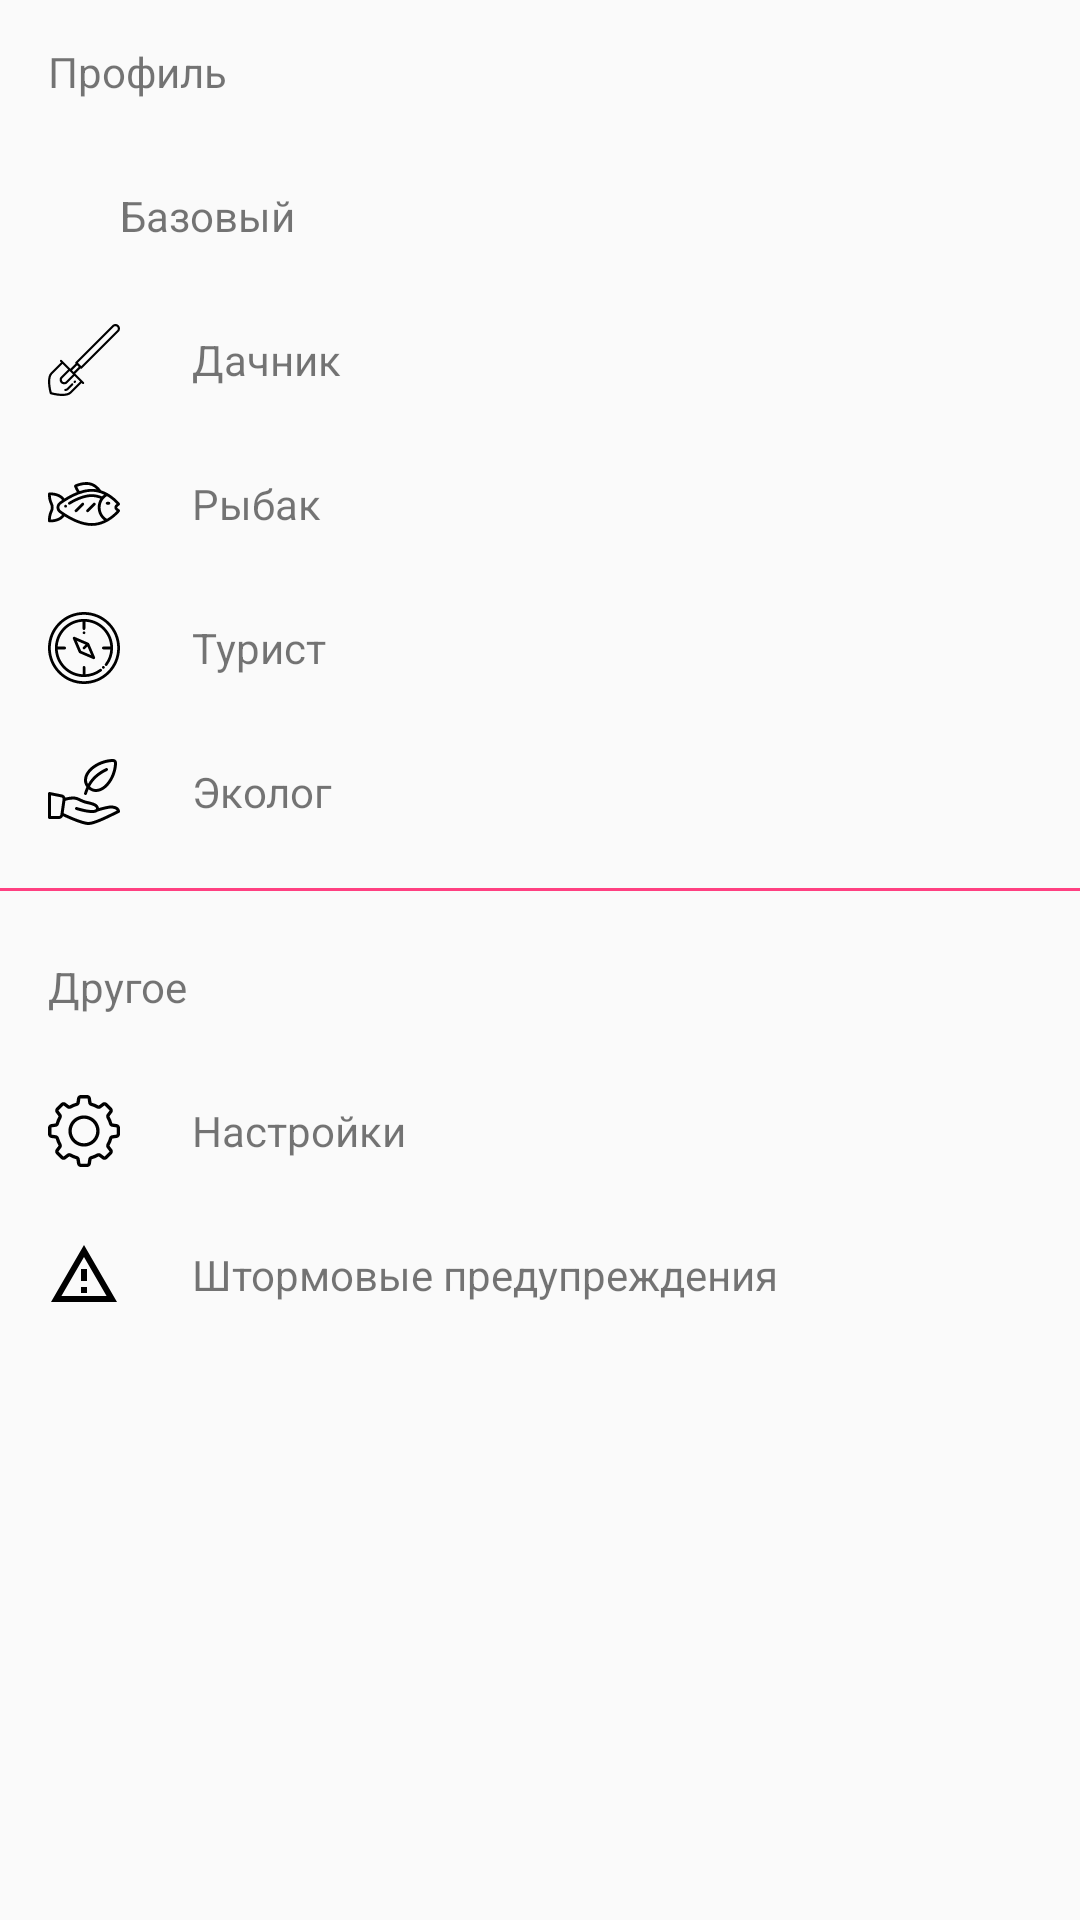

Named icons in this screenshot (1080px x 1920px) and their bounding boxes, [x1,y1,x2,y2]:
dach: [48,324,120,396]
ecologist: [48,759,120,825]
fisher: [48,482,120,526]
settings: [48,1095,120,1167]
tourist: [48,612,120,684]
warning: [51,1245,117,1302]
